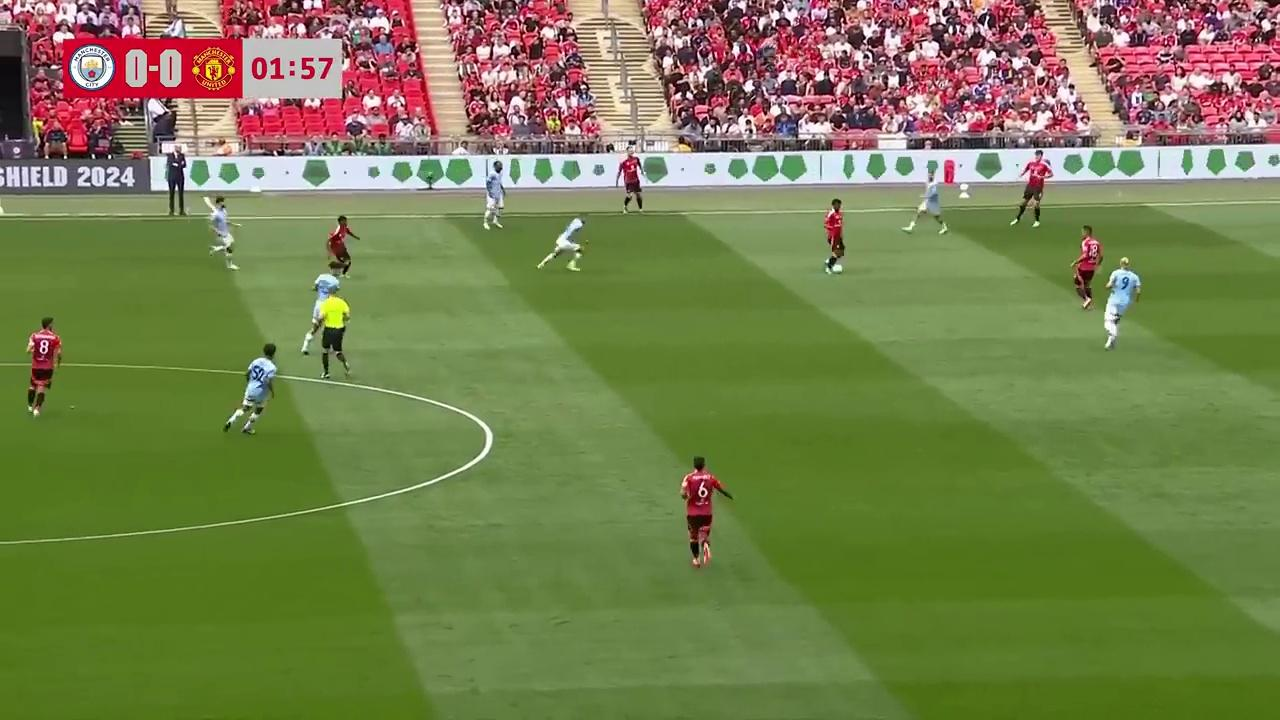player: (679, 455, 732, 570), (223, 342, 277, 435), (1102, 255, 1145, 350), (1009, 149, 1058, 227), (26, 316, 62, 417), (537, 214, 588, 272), (301, 279, 337, 359), (1071, 226, 1102, 311), (906, 173, 948, 234), (207, 196, 238, 268), (327, 215, 360, 282), (823, 198, 845, 274), (617, 153, 644, 214), (482, 164, 505, 230)
referee: (317, 285, 351, 381)
